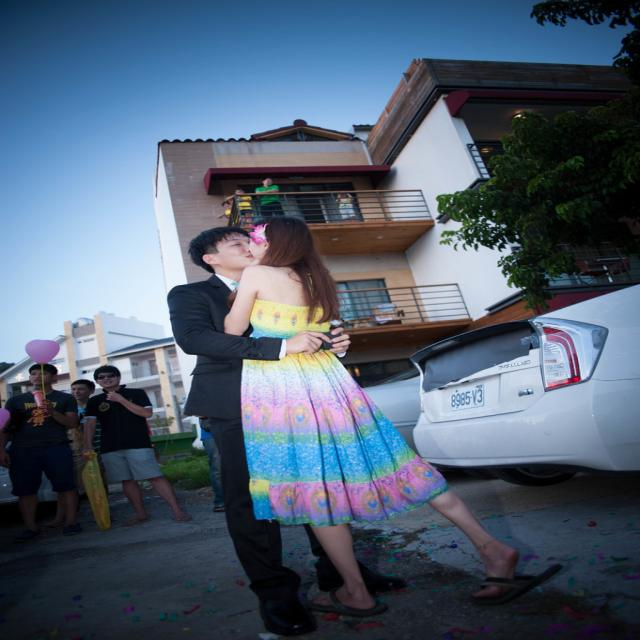car: (393, 300, 631, 498)
